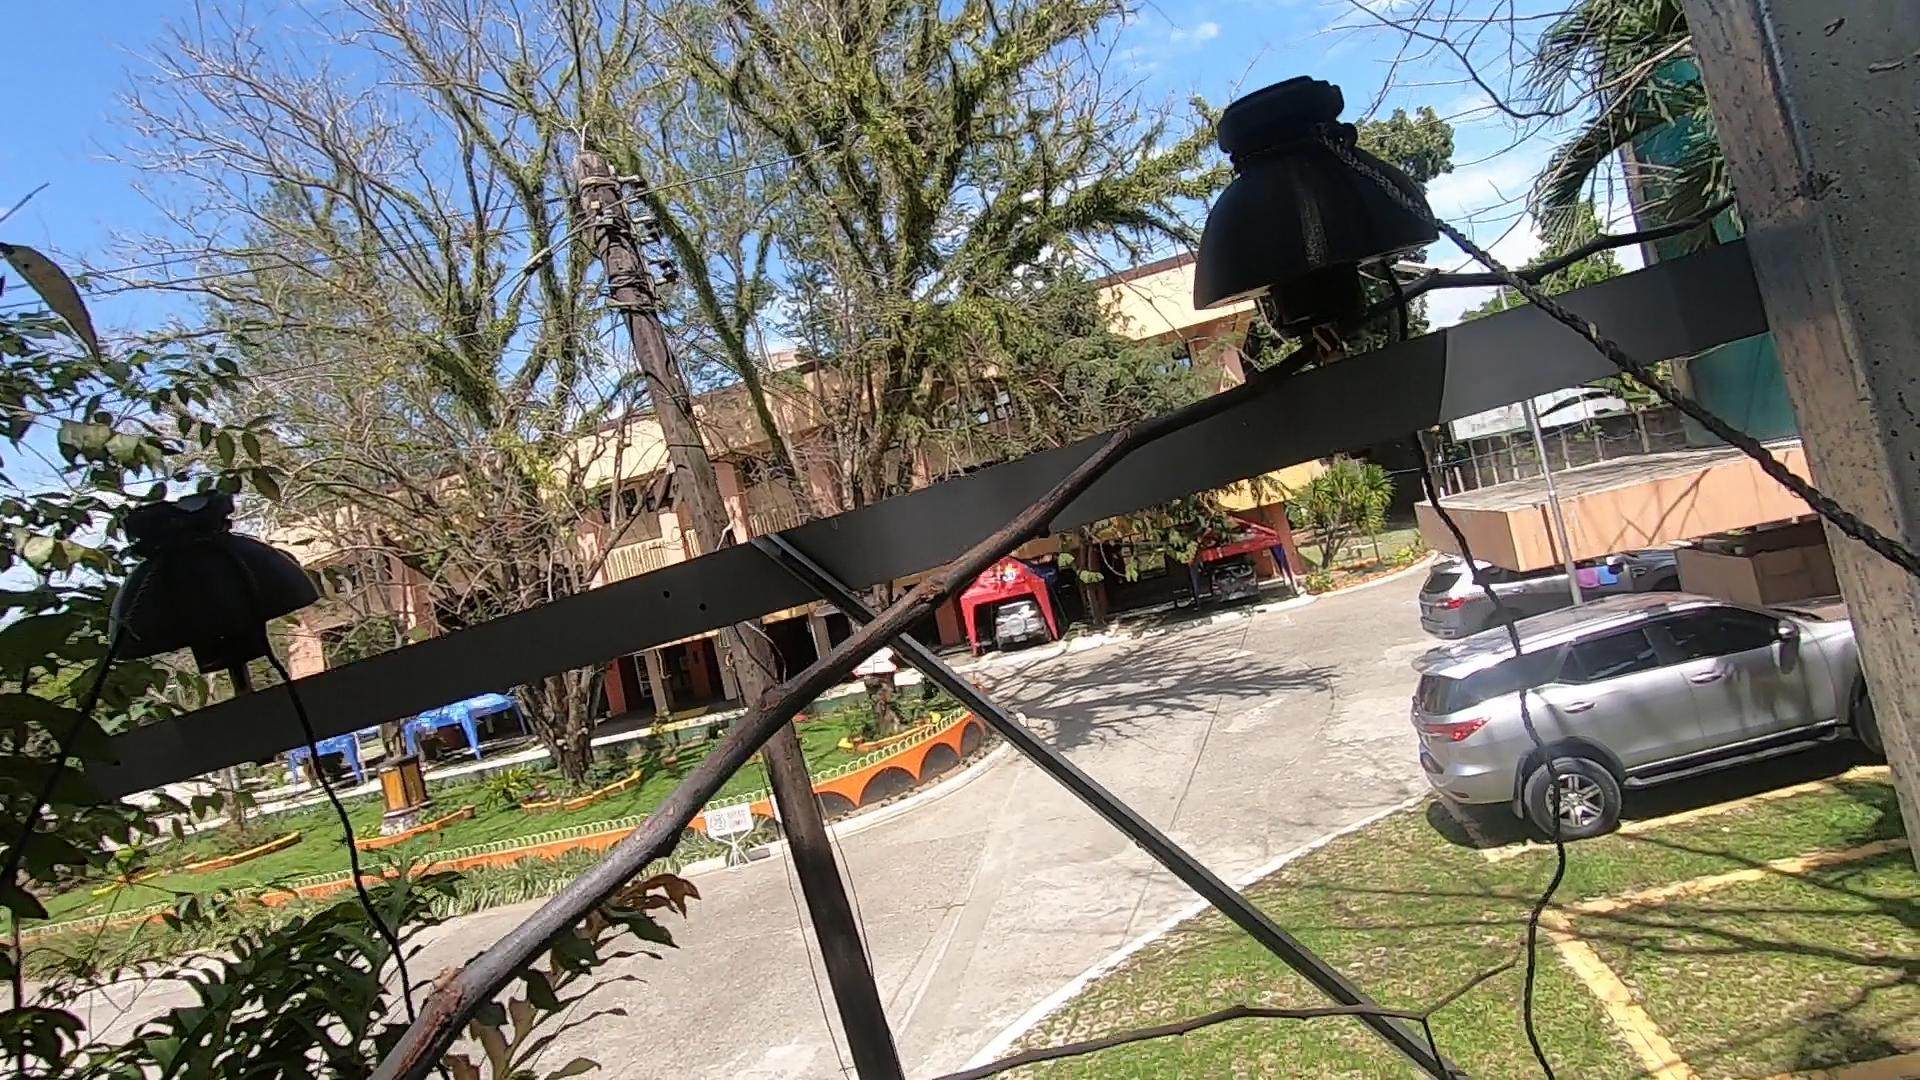tree branch: (356, 135, 1792, 1080)
